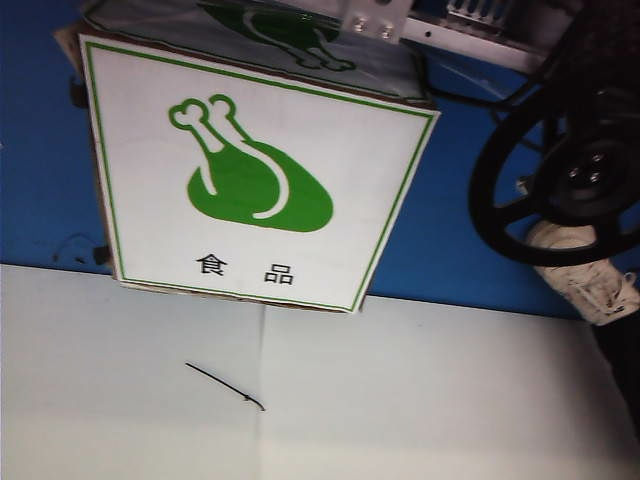Cube_food: (159, 86, 335, 290)
